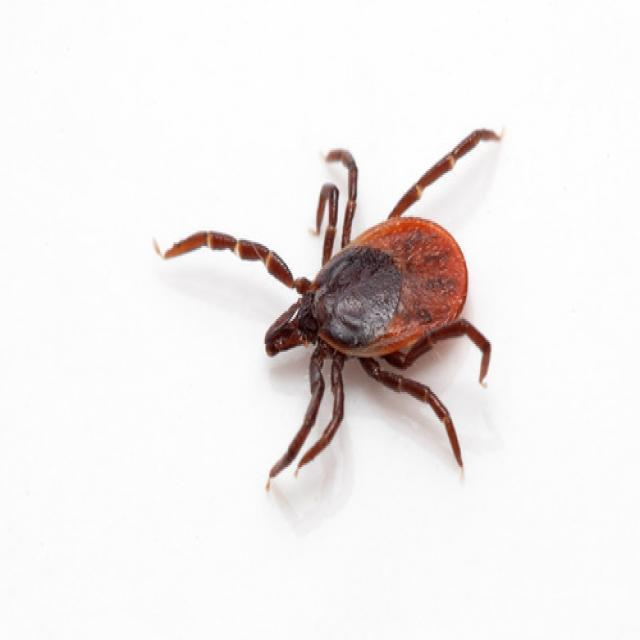Ixodes Ricinus-F: (152, 129, 503, 488)
